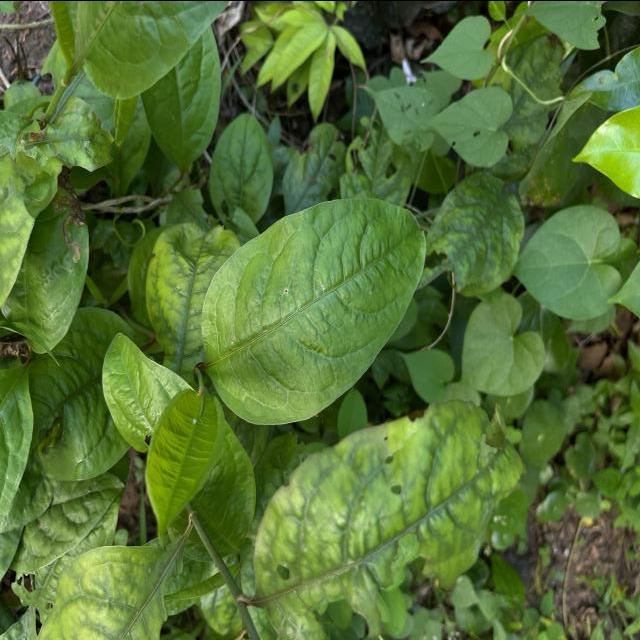Plumbago indica: (200, 194, 430, 426), (143, 384, 221, 543), (208, 110, 274, 220)
